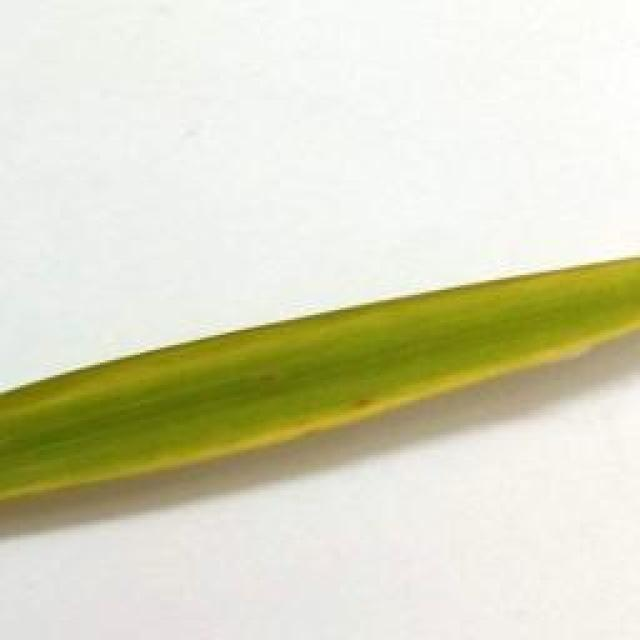Brown_Spot: (350, 389, 385, 413)
